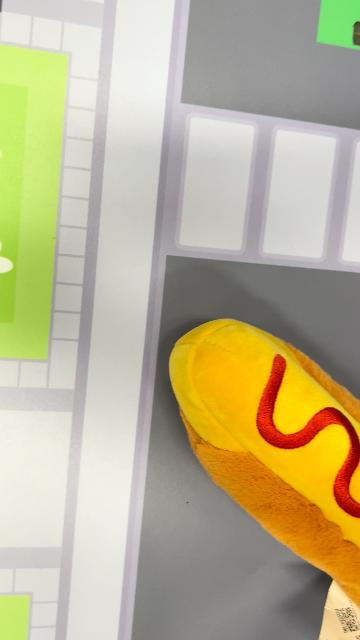hotdog: (168, 316, 360, 610)
